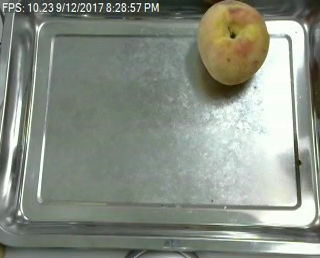Peach: (195, 1, 270, 85)
